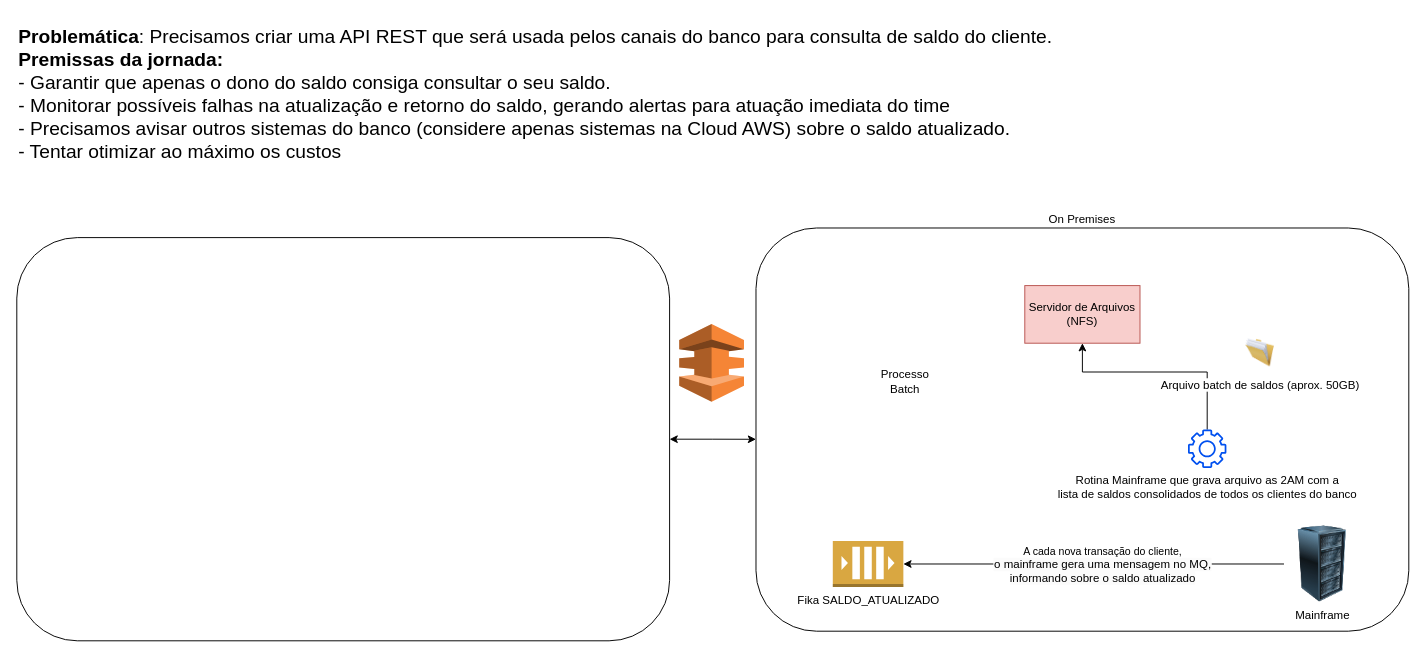
This 1426x658 diagram has some shape labels left out. The shapes that lost their labels are listed below. From the top down, each one's box as (x1, y1, x2, y2) in pixels, then its label:
(678, 323, 744, 402): Direct Connect
(16, 237, 670, 641): Conta Cloud
